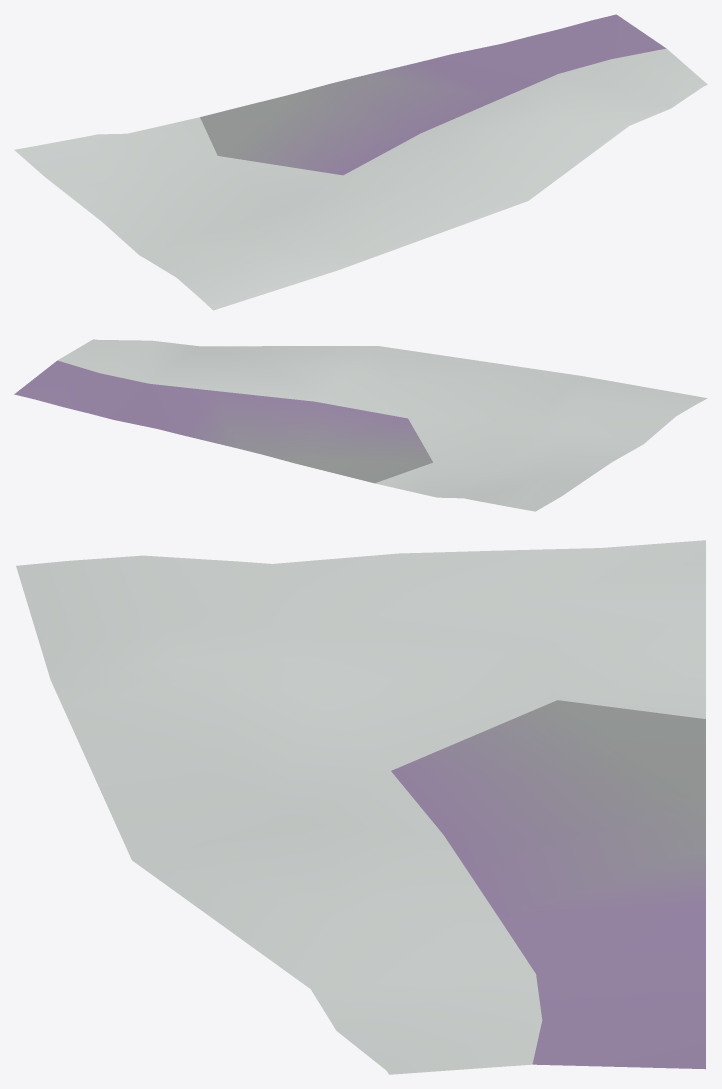
3 views of the same model, one above another, from view 1: azimuth 30°, elevation 25°; view 2: azimuth 150°, elevation 25°; view 3: azimuth 270°, elevation 25° (orthographic). The views are drawn at different scales.
Parts seen in each view (by area): view 1: G:\FFXIV-MapTools\exports\m5f1\bg\ex4\02_mid_m5\fld\m5f1\bgp (×2); view 2: G:\FFXIV-MapTools\exports\m5f1\bg\ex4\02_mid_m5\fld\m5f1\bgp (×2); view 3: G:\FFXIV-MapTools\exports\m5f1\bg\ex4\02_mid_m5\fld\m5f1\bgp (×2).
Part boxes in pixels (x1,y1,x2,y2): G:\FFXIV-MapTools\exports\m5f1\bg\ex4\02_mid_m5\fld\m5f1\bgp (×2): (14,14,707,310); G:\FFXIV-MapTools\exports\m5f1\bg\ex4\02_mid_m5\fld\m5f1\bgp (×2): (14,339,707,511); G:\FFXIV-MapTools\exports\m5f1\bg\ex4\02_mid_m5\fld\m5f1\bgp (×2): (16,540,705,1074).
Size of the model in its own units: 128 by 3.47 by 73.34.
